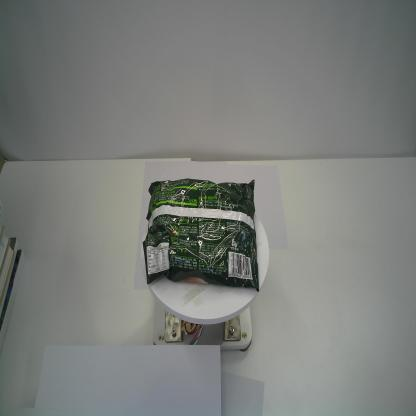Instant Noodles: (142, 178, 259, 293)
